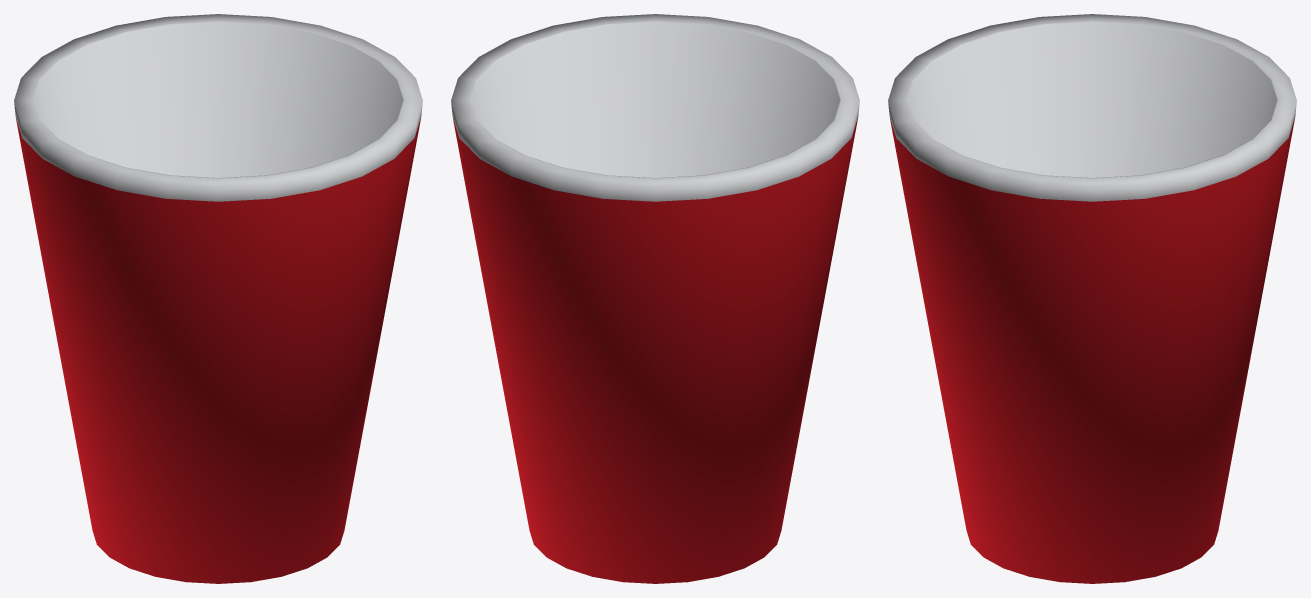
File: redcup.fbx
3 views of the same model, side by side, from view 1: azimuth 30°, elevation 25°; view 2: azimuth 150°, elevation 25°; view 3: azimuth 270°, elevation 25° (orthographic).
Parts seen in each view (by area): view 1: Cylinder; view 2: Cylinder; view 3: Cylinder.
Part boxes in pixels (x1=…): Cylinder: x1=14, y1=14, x2=422, y2=583; Cylinder: x1=451, y1=14, x2=859, y2=583; Cylinder: x1=888, y1=14, x2=1296, y2=583.
Size of the model in its own units: 201 by 234 by 201.
